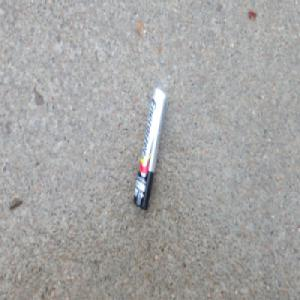Battery: (131, 86, 167, 211)
